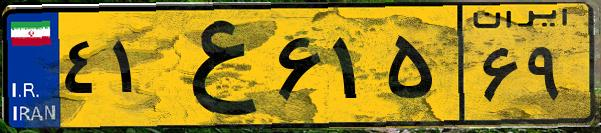1: (330, 28, 385, 110), (110, 28, 158, 98)
4: (57, 26, 110, 100)
5: (385, 28, 445, 110)
6: (270, 28, 330, 110), (475, 38, 525, 113)
9: (525, 38, 570, 115)
ع: (158, 12, 270, 120)
